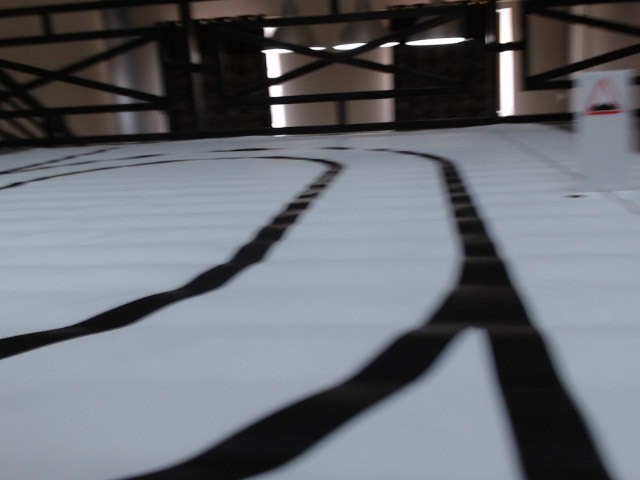Nerov: (583, 78, 621, 115)
